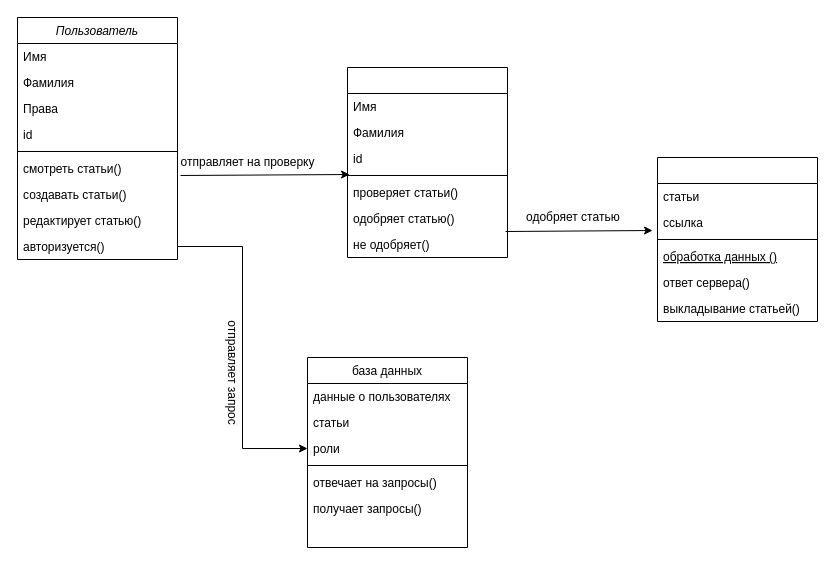
The diagram is 835 pixels wide and 565 high, and some of its shapes have lost their labels. Here are the shapes that lost their labels. From the top down, the box of each, then its label:
(346, 66, 508, 258): Проверяющий
(656, 156, 818, 322): википедия
